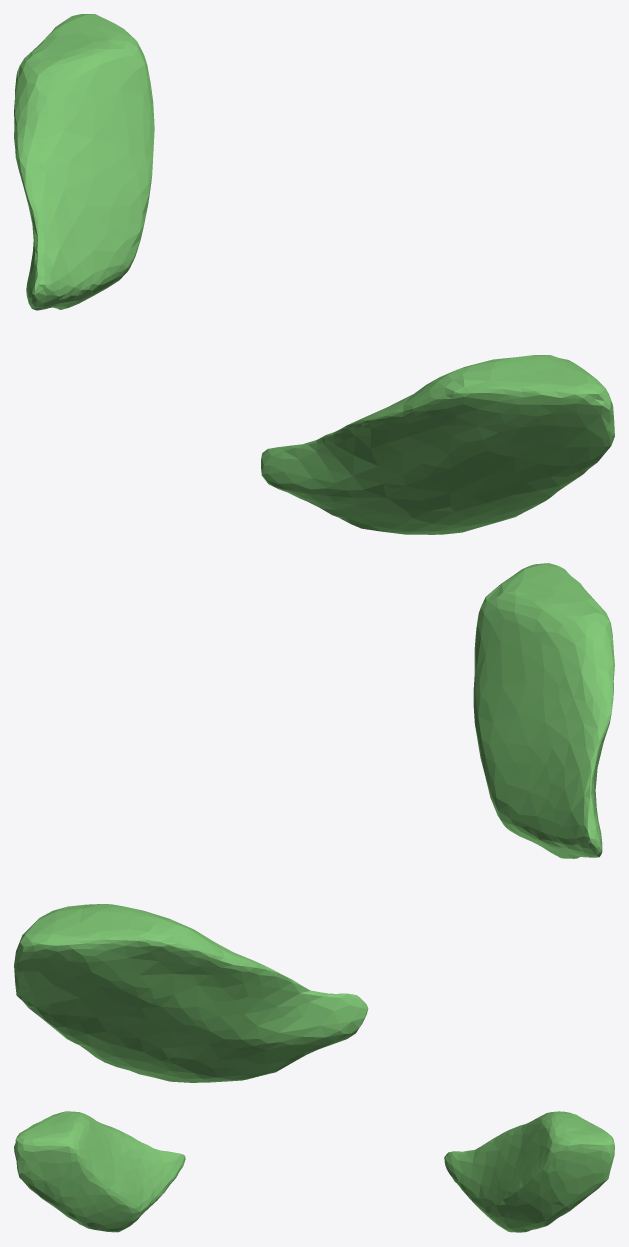
The picture shows the model from 3 angles, top to bottom: view 1: azimuth 30°, elevation 25°; view 2: azimuth 150°, elevation 25°; view 3: azimuth 270°, elevation 25°; orthographic projection. The views are drawn at different scales.
Visible parts, largest first — view 1: 1037.obj; view 2: 1037.obj; view 3: 1037.obj.
Part boxes in pixels (x1,y1,x2,y2): 1037.obj: (14, 14, 614, 534); 1037.obj: (14, 563, 614, 1082); 1037.obj: (14, 1111, 614, 1232).
Bounding box in the file's own units: 1361 × 1191 × 5670.
